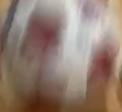Sports-Ball: (11, 5, 113, 100)
